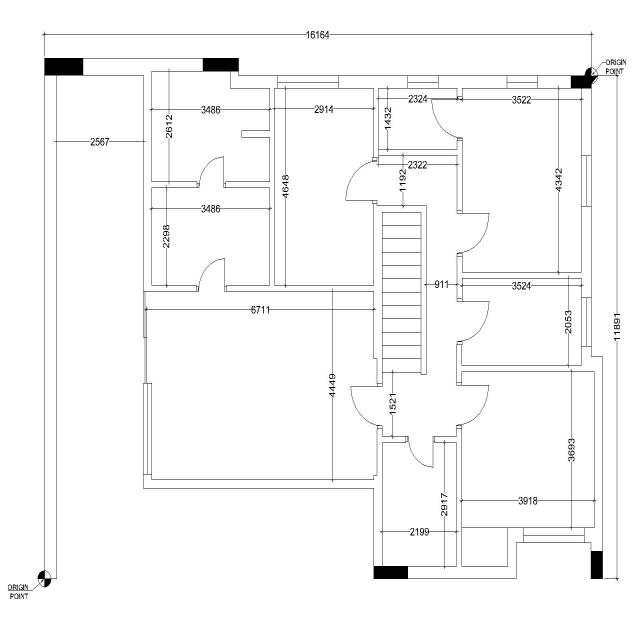Column: (44, 58, 84, 76), (203, 58, 239, 72), (374, 566, 408, 579), (591, 551, 603, 579), (570, 75, 592, 88)
Door: (456, 382, 489, 429), (457, 298, 490, 345), (457, 210, 490, 257), (345, 158, 377, 204), (350, 384, 382, 429), (431, 97, 463, 141), (196, 258, 227, 292), (405, 436, 435, 468), (197, 156, 226, 188)
Sliding Door: (143, 291, 147, 383)
Staircase: (382, 213, 421, 387)
Window: (523, 527, 585, 543), (143, 383, 152, 475), (278, 75, 338, 88), (581, 156, 592, 207), (581, 298, 592, 347), (507, 75, 538, 88), (408, 75, 438, 88)
